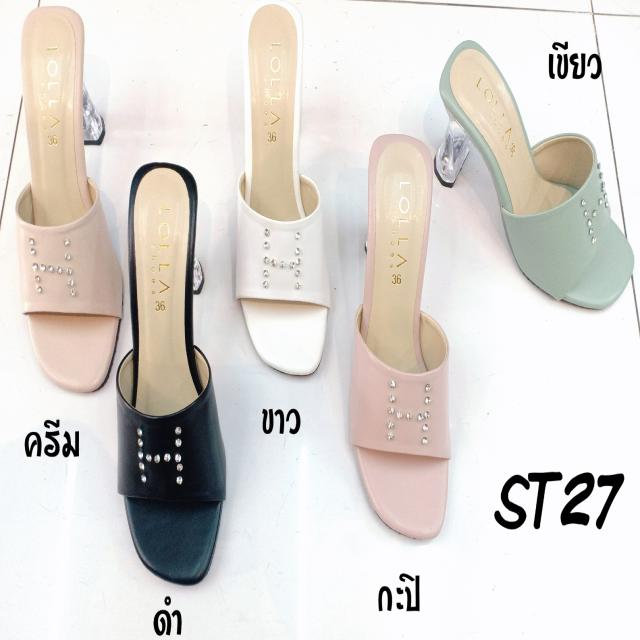black: (120, 160, 225, 579)
cream: (19, 8, 120, 378)
green: (442, 41, 633, 311)
kapi: (357, 135, 455, 532)
white: (236, 5, 330, 372)
